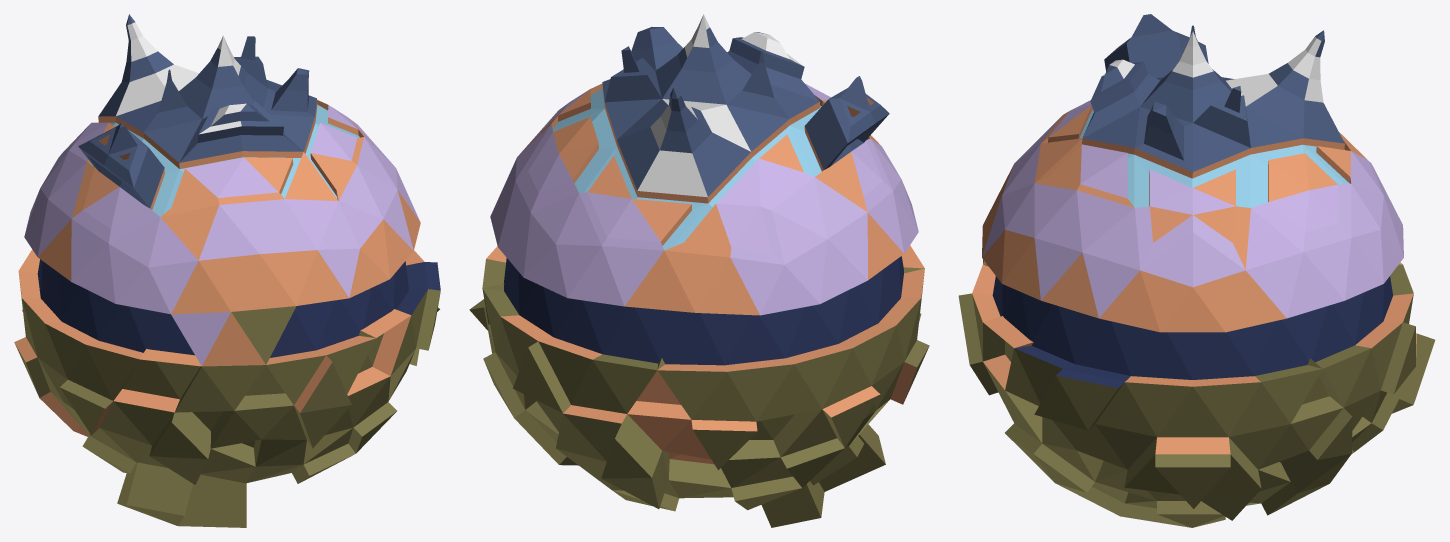
The model's file is Planeta_1.fbx.
3 views of the same model, side by side, from view 1: azimuth 30°, elevation 25°; view 2: azimuth 150°, elevation 25°; view 3: azimuth 270°, elevation 25° (orthographic). The views are drawn at different scales.
Parts seen in each view (by area): view 1: Icosphere; view 2: Icosphere; view 3: Icosphere.
Part boxes in pixels (box(x1,y1,x2,y2)): Icosphere: box(14, 14, 440, 527); Icosphere: box(469, 14, 929, 527); Icosphere: box(958, 14, 1435, 527).
Bounding box in the file's own units: 2131 × 2474 × 2159.
